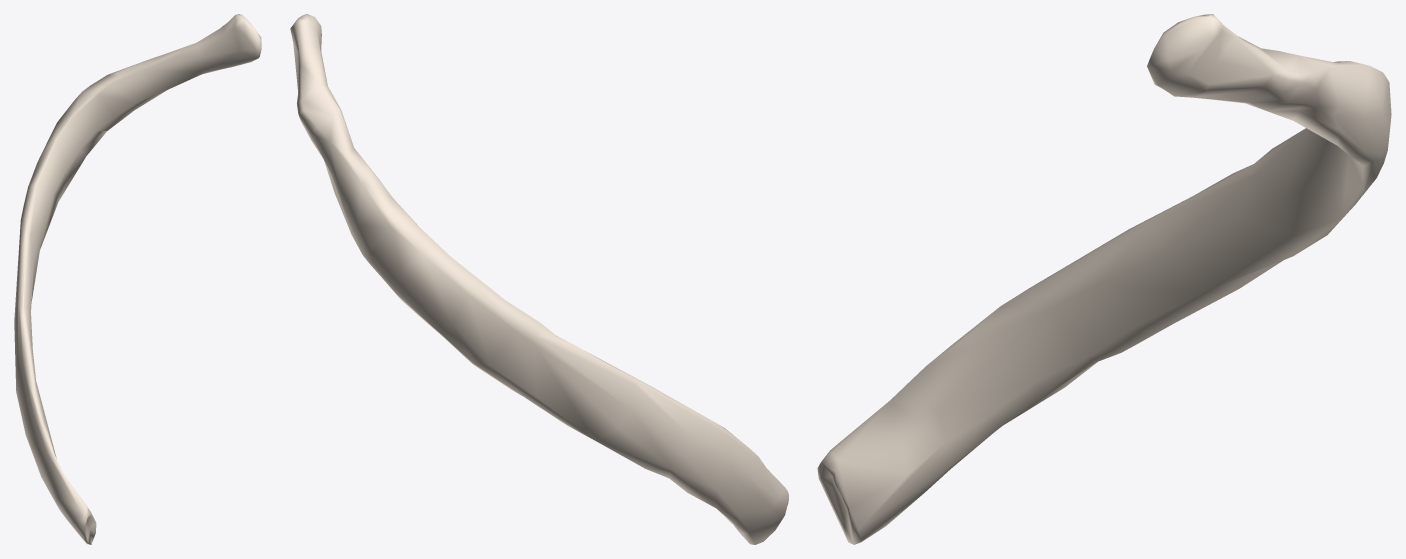
Rendered from right_rib_10.glb.
The picture shows the model from 3 angles, left to right: view 1: azimuth 30°, elevation 25°; view 2: azimuth 150°, elevation 25°; view 3: azimuth 270°, elevation 25°; orthographic projection. The views are drawn at different scales.
Visible parts, largest first — view 1: Rib (10th).r; view 2: Rib (10th).r; view 3: Rib (10th).r.
Boxes of the visible parts, x1,y1,x2,y2 form: Rib (10th).r: (14, 14, 261, 544); Rib (10th).r: (290, 14, 788, 544); Rib (10th).r: (817, 14, 1391, 544).
Bounding box in the file's own units: 0.1147 × 0.157 × 0.1089.
